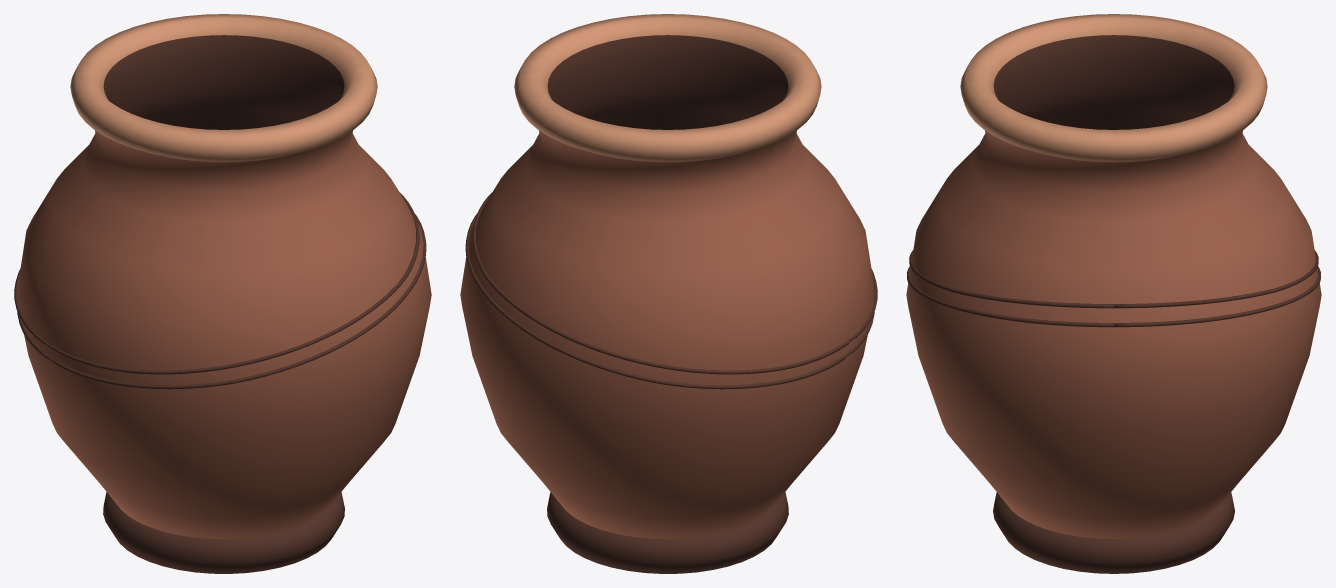
File: ceramic-pot.glb
3 views of the same model, side by side, from view 1: azimuth 30°, elevation 25°; view 2: azimuth 150°, elevation 25°; view 3: azimuth 270°, elevation 25° (orthographic).
Visible parts, largest first — view 1: ceramic-pot; view 2: ceramic-pot; view 3: ceramic-pot.
Part boxes in pixels (x1,y1,x2,y2): ceramic-pot: [14, 14, 431, 573]; ceramic-pot: [460, 14, 877, 573]; ceramic-pot: [906, 14, 1321, 573].
Bounding box in the file's own units: 0.6026 × 0.721 × 0.6.
